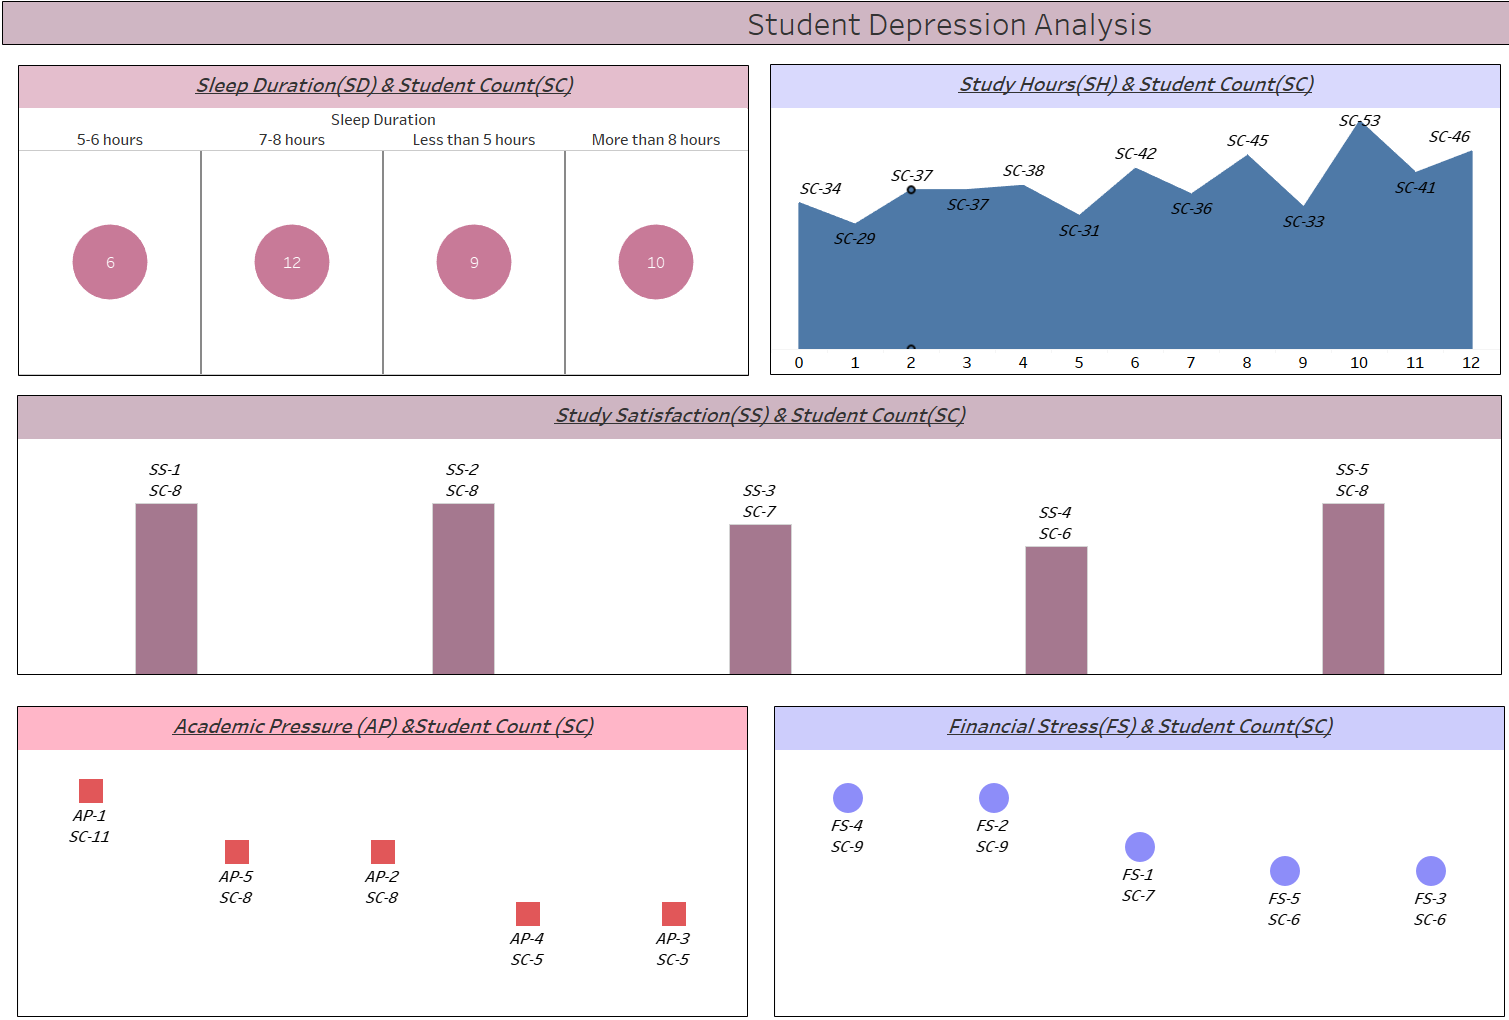

What the dashboard file says about the page in this screenshot:
{"tool":"tableau","page":{"name":"Student d","canvas":[1000,1000],"units":"permille","ordinal":0},"visuals":[{"type":"title","box":[4.9,10,990.2,65.2]},{"type":"worksheet","title":"SH & SC","mark":"Area","rows":["Index_column"],"cols":["Study_Hours"],"box":[406.2,71.7,380.8,298.5]},{"type":"worksheet","title":"SD & SC","mark":"Pie","cols":["Sleep_Duration"],"box":[14.5,72.9,380.8,298.5]},{"type":"worksheet","title":"SS & SC","mark":"Automatic","rows":["Index_column"],"cols":["Study_Satisfaction"],"box":[14.1,389,773.3,268.5]},{"type":"worksheet","title":"AP & SC","mark":"Square","rows":["Index_column"],"cols":["Academic_Pressure"],"box":[13.9,687.4,380.8,298.5]},{"type":"worksheet","title":"FS & SC","mark":"Circle","rows":["Index_column"],"cols":["Financial_Stress"],"box":[408.6,687.4,380.8,298.5]}]}

Visuals, with their boxes on the dashboard's canvas, which has no fixed pixel size, in thousandths of its width and height (x1, y1, x2, y2). These are canvas units, not pixel positions in the 1509x1020 screenshot, which may show the page scaled, cropped or inside an application window:
title: (x1=5, y1=10, x2=995, y2=75)
"SH & SC" worksheet (Area marks): (x1=406, y1=72, x2=787, y2=370)
"SD & SC" worksheet (Pie marks): (x1=14, y1=73, x2=395, y2=371)
"SS & SC" worksheet: (x1=14, y1=389, x2=787, y2=658)
"AP & SC" worksheet (Square marks): (x1=14, y1=687, x2=395, y2=986)
"FS & SC" worksheet (Circle marks): (x1=409, y1=687, x2=789, y2=986)
